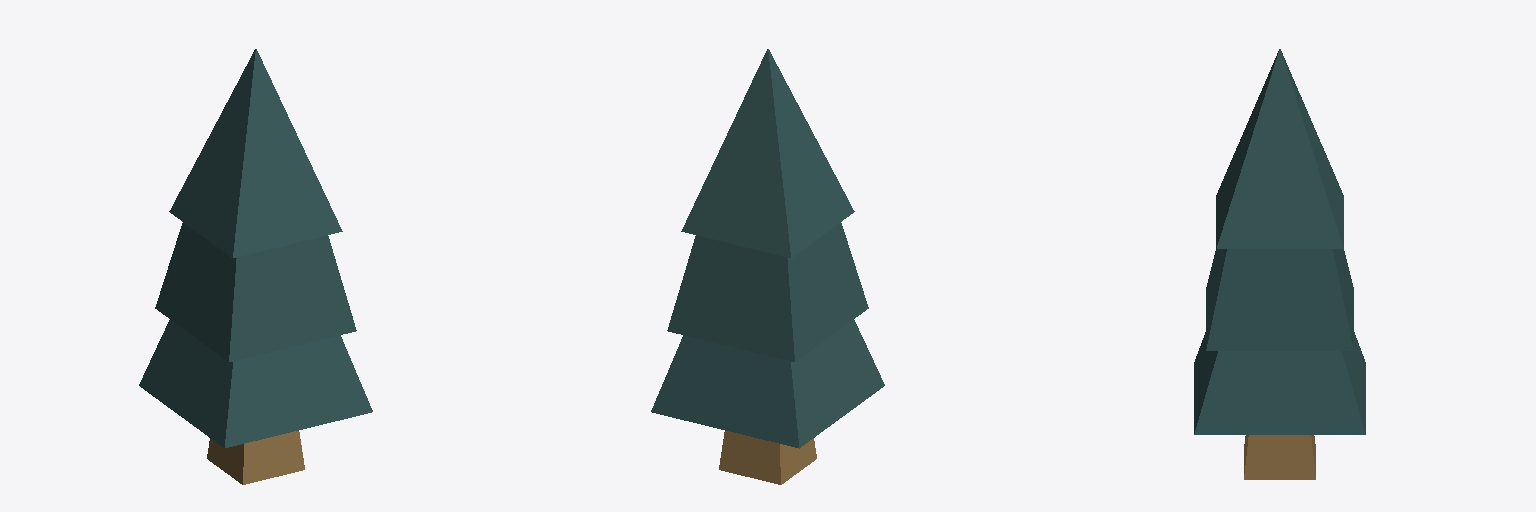
The picture shows the model from 3 angles: view 1: azimuth 30°, elevation 25°; view 2: azimuth 150°, elevation 25°; view 3: azimuth 270°, elevation 25°; orthographic projection.
Parts seen in each view (by area): view 1: Mesh1 Tree Model; view 2: Mesh1 Tree Model; view 3: Mesh1 Tree Model.
Part boxes in pixels (left/top/right/bottom): Mesh1 Tree Model: left=139, top=49, right=372, bottom=484; Mesh1 Tree Model: left=651, top=49, right=884, bottom=484; Mesh1 Tree Model: left=1194, top=49, right=1365, bottom=479.
Size of the model in its own units: 1.18 by 3.16 by 1.18.
1 materials, 1 textured.